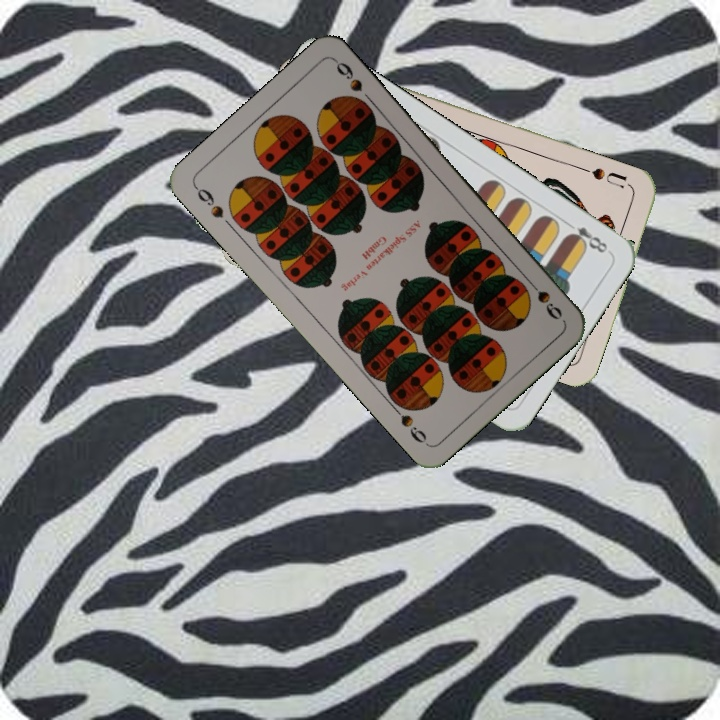E8: (561, 217, 611, 256)
S9: (522, 273, 565, 323), (190, 182, 227, 221)
SU: (577, 163, 629, 192)
